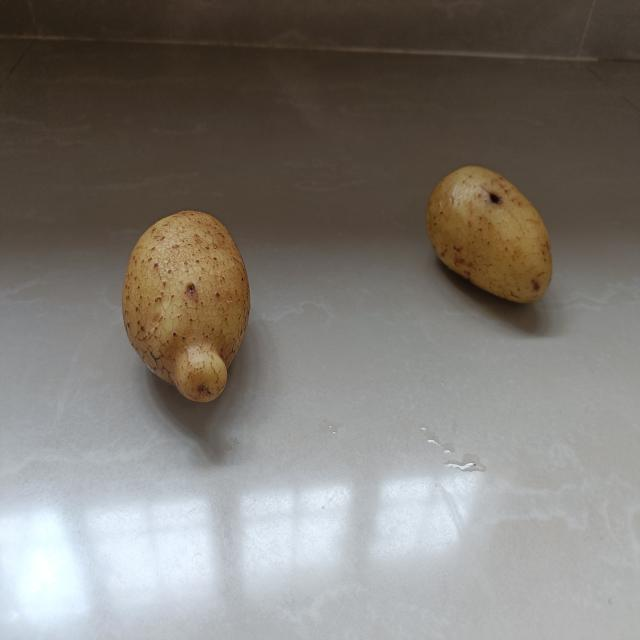potato: (119, 210, 251, 408), (421, 161, 556, 307)
